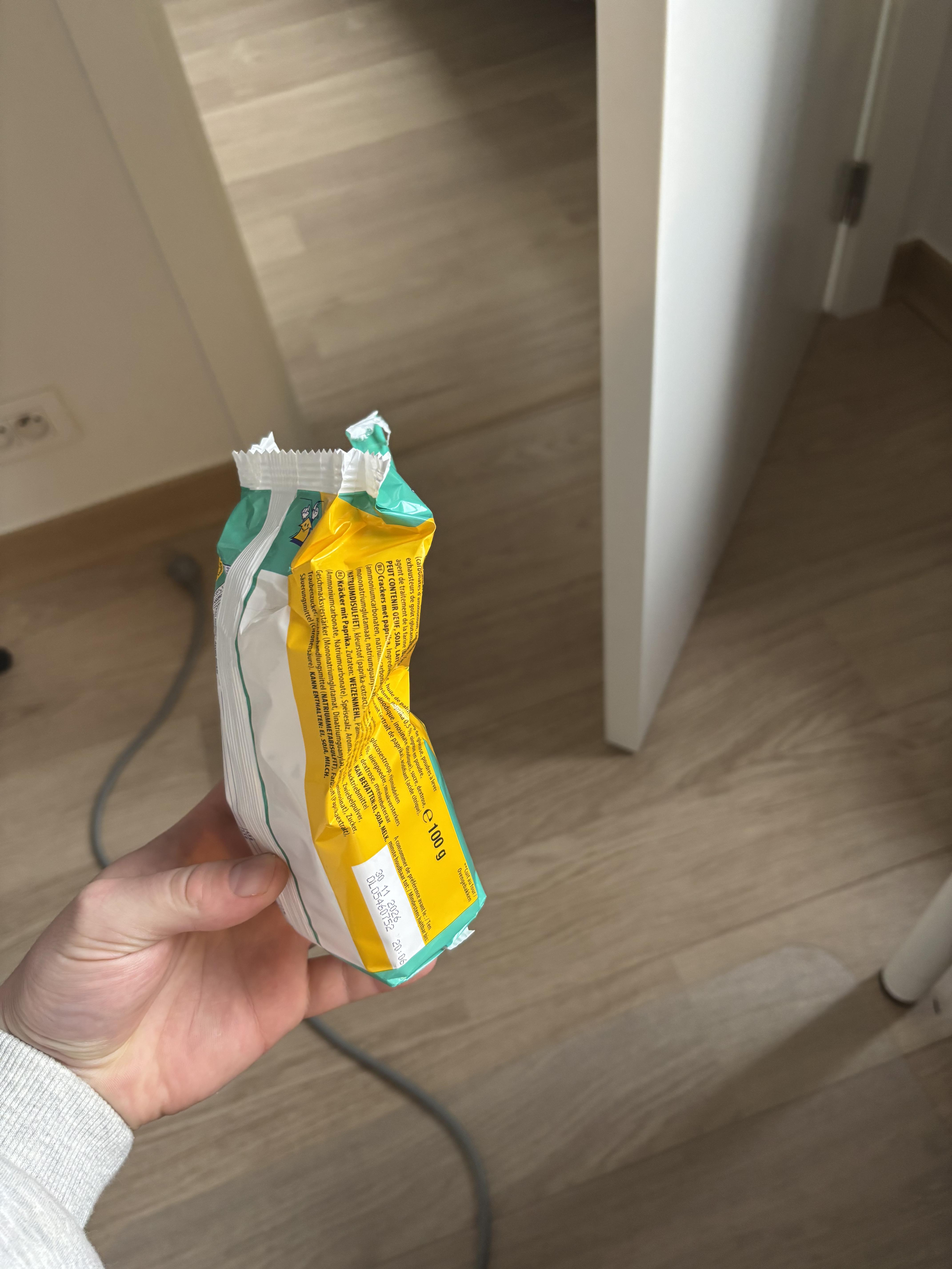Plastic: (211, 406, 489, 987)
